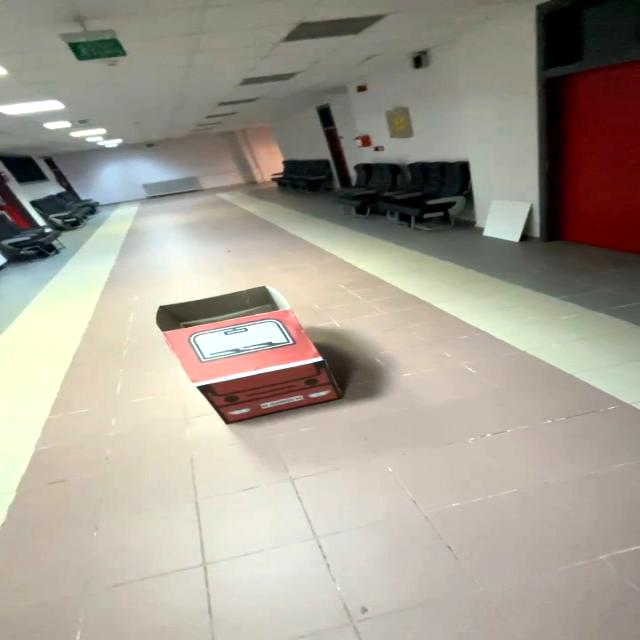red_car: (125, 278, 374, 435)
